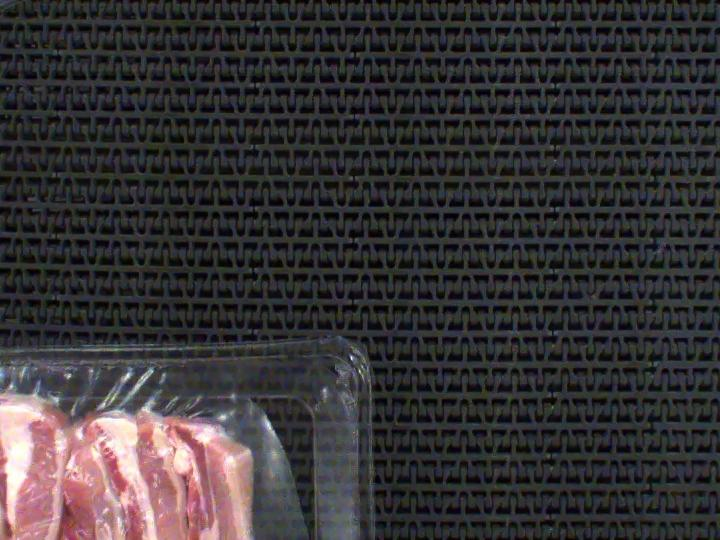unsealed: (0, 328, 336, 540)
